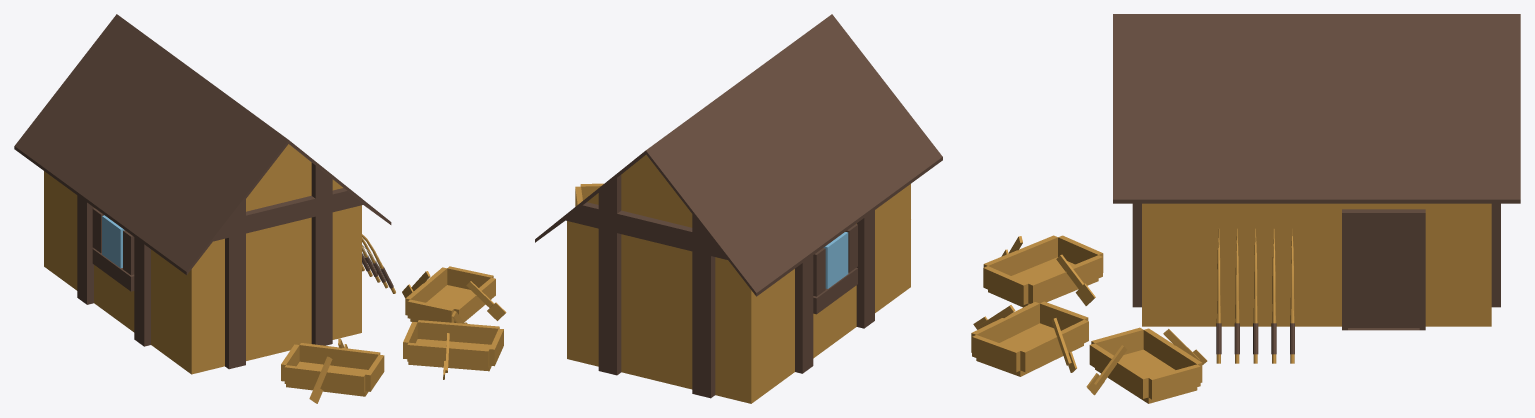
Rendered from fishing_station.glb.
3 renders of one model, left to right at view 1: azimuth 30°, elevation 25°; view 2: azimuth 150°, elevation 25°; view 3: azimuth 270°, elevation 25°, orthographic. The views are drawn at different scales.
Parts seen in each view (by area): view 1: pCylinder1; view 2: pCylinder1; view 3: pCylinder1.
Boxes of the visible parts, x1,y1,x2,y2 form: pCylinder1: (14, 14, 506, 403); pCylinder1: (535, 14, 942, 403); pCylinder1: (971, 14, 1520, 403).
Size of the model in its own units: 3.01 by 2.01 by 3.74.
4 materials, 4 textured.
